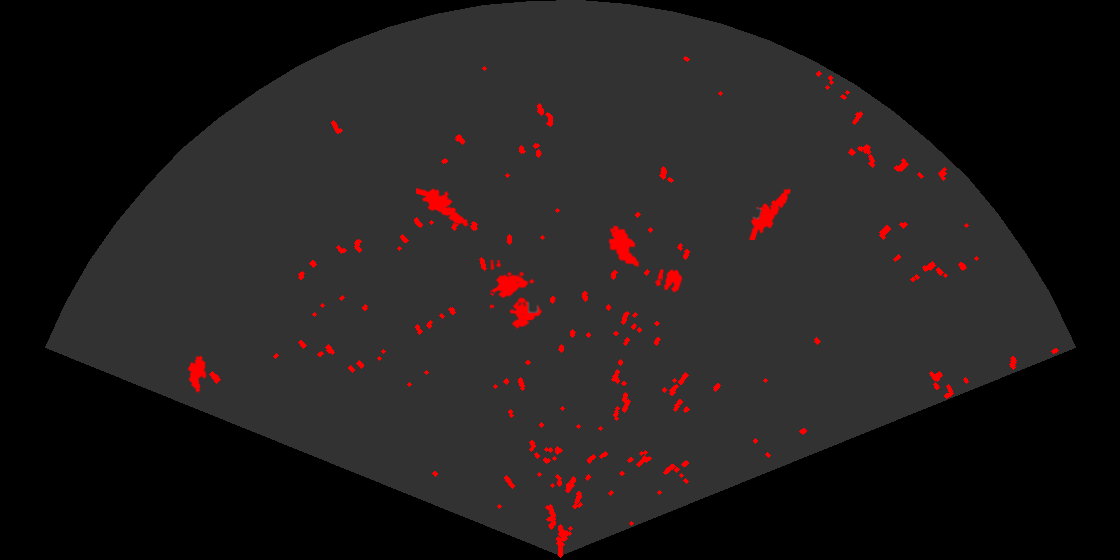AUV: (607, 224, 641, 269), (186, 354, 208, 395)
ball: (654, 267, 684, 294)
cage: (490, 260, 544, 331)
frogman: (747, 178, 793, 240), (416, 186, 471, 228)
